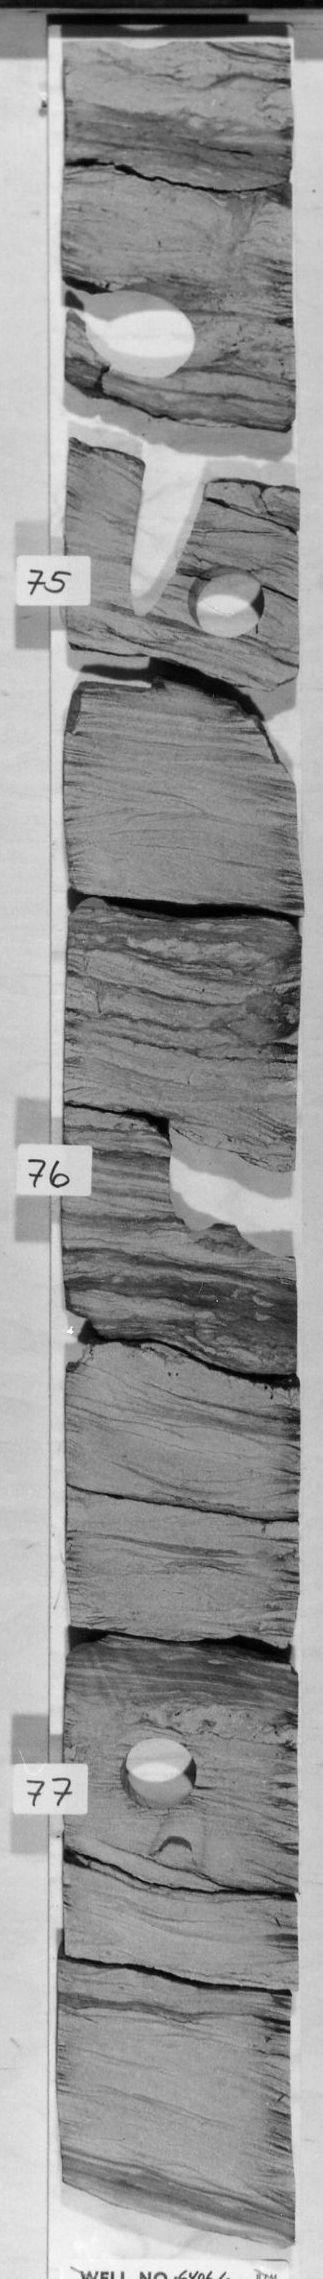hplug: (113, 1733, 202, 1810), (183, 561, 268, 640), (228, 1217, 294, 1269)
scal: (77, 267, 231, 401)
vplug: (113, 456, 205, 638), (151, 1110, 220, 1244), (148, 1807, 208, 1875)
